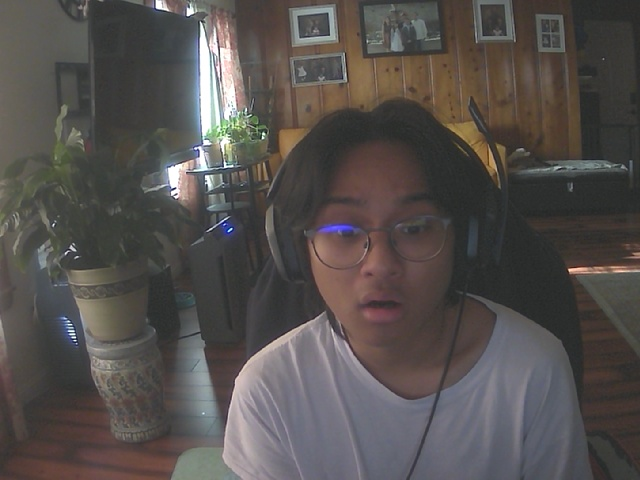fear: (303, 135, 456, 342)
